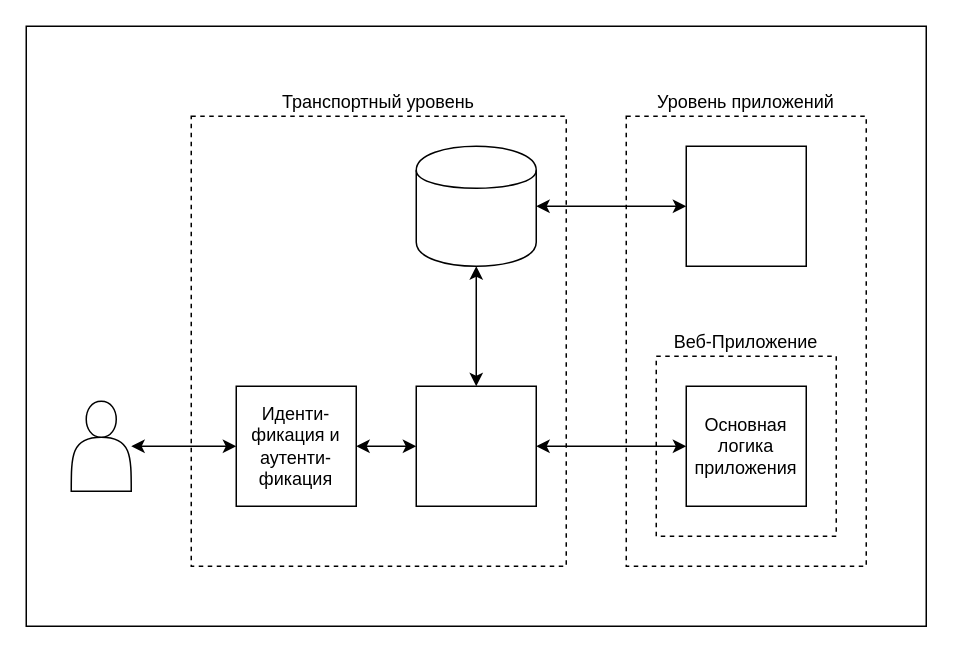
Some shapes in this 953 by 653 pixel diagram are drawn without their labels. Here are the shapes that lost their labels. From the top down, the centre of each, then its label:
At (x=475, y=205): "Списки доступа".
At (x=745, y=205): "Система авторизации".
At (x=475, y=445): "Проверки доступа".
